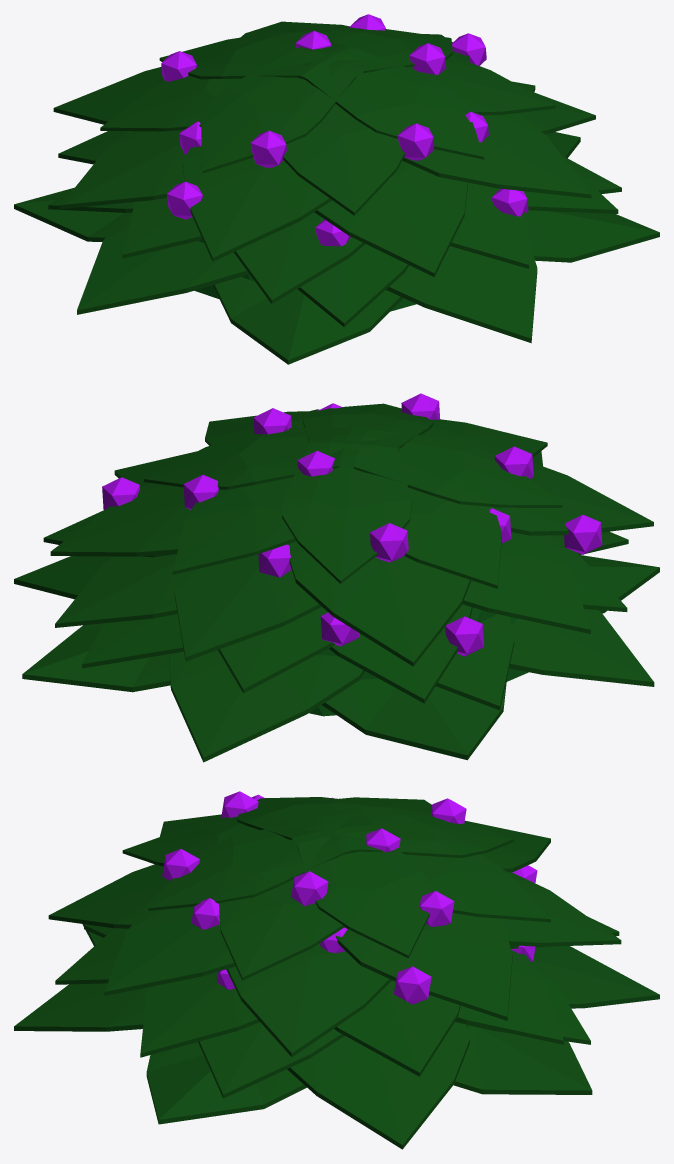
File: BushLPurpleFruits.obj
3 views of the same model, one above another, from view 1: azimuth 30°, elevation 25°; view 2: azimuth 150°, elevation 25°; view 3: azimuth 270°, elevation 25° (orthographic). The views are drawn at different scales.
Visible parts, largest first — view 1: BushLPurpleFruits_Icosphere.014; view 2: BushLPurpleFruits_Icosphere.014; view 3: BushLPurpleFruits_Icosphere.014.
Part boxes in pixels (x1,y1,x2,y2): BushLPurpleFruits_Icosphere.014: (14, 14, 659, 364); BushLPurpleFruits_Icosphere.014: (14, 393, 659, 762); BushLPurpleFruits_Icosphere.014: (14, 791, 659, 1149).
Size of the model in its own units: 10 by 3.2 by 10.07.
